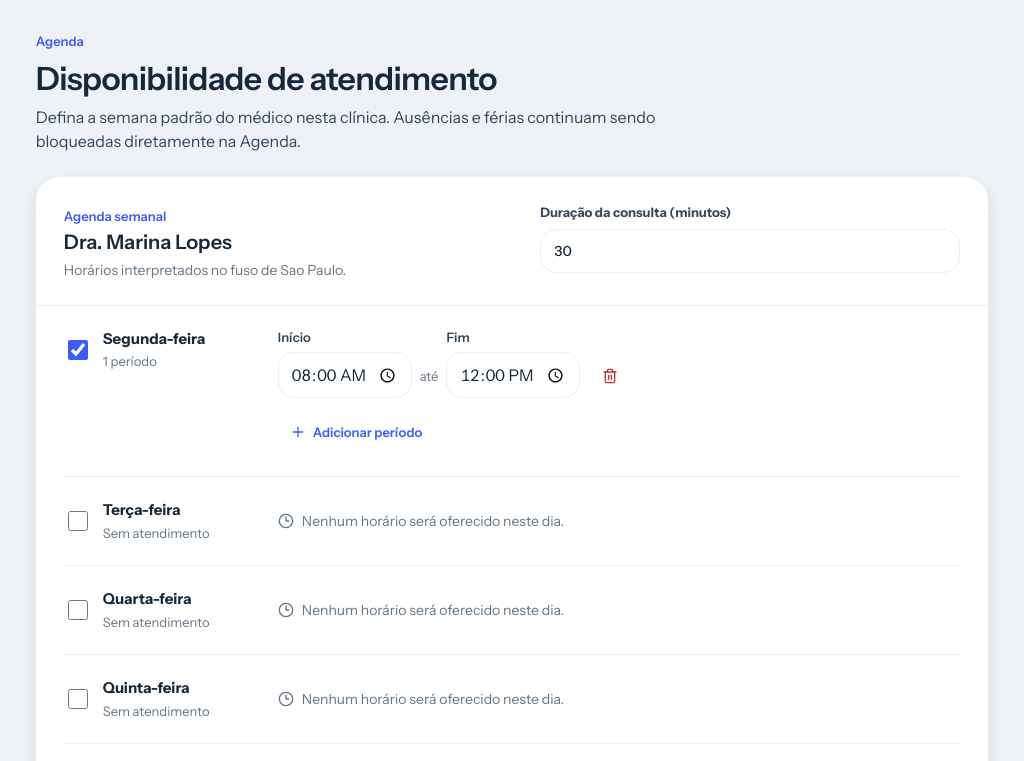
it: ScheduleSettingsPage › médico salva duração, dias e múltiplos períodos da própria clínica
The width and height of the screenshot is (1024, 761).
Check: the heading "Dra. Marina Lopes" is shown, box [64,230,232,254]
Replace the text in the number field labelled "Duração da consulta (minutos)" with "45" at (750,251), box [540,229,960,273]
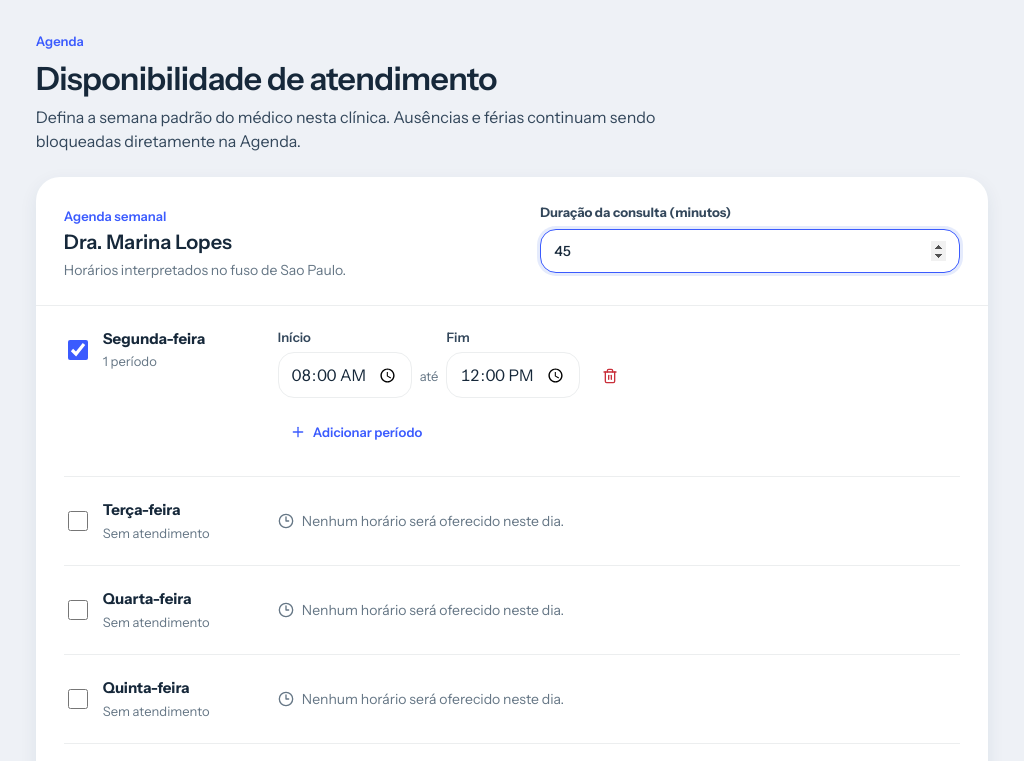
Click the button "Adicionar período".
click(356, 432)  # box [278,410,434,454]
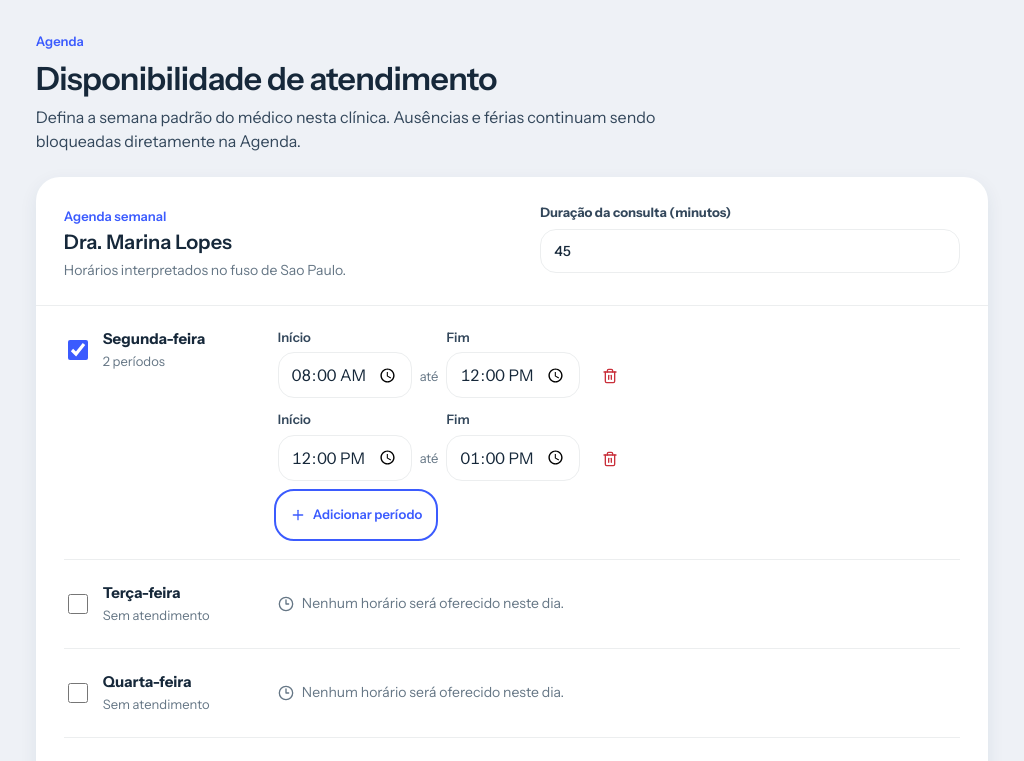
Click the checkbox labelled "Terça-feira Sem atendimento".
click(78, 604)  # box [68,594,88,614]
(page scrolled)
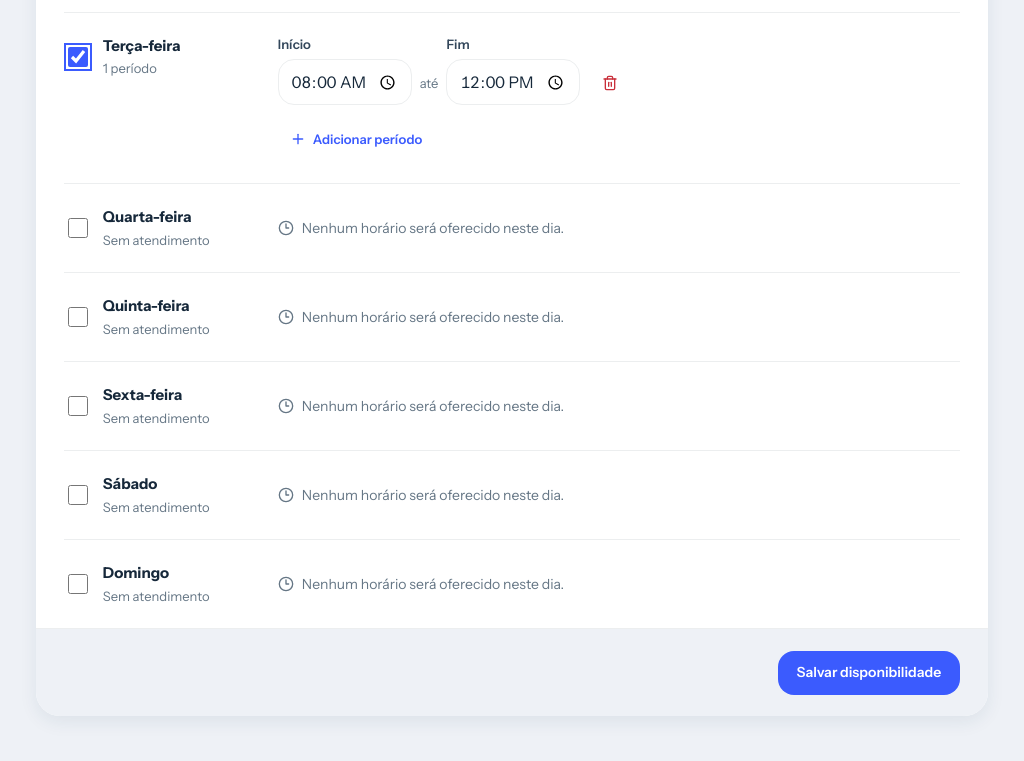
Click the button "Salvar disponibilidade".
click(869, 673)  # box [778,651,960,695]
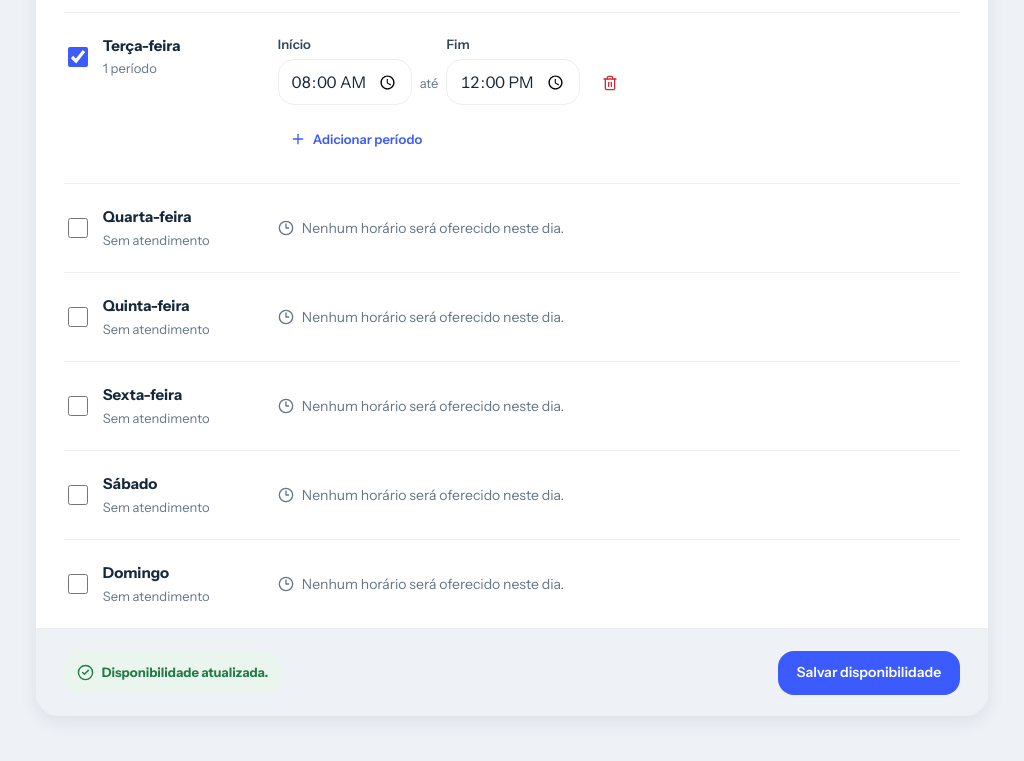
Check: the text "Disponibilidade atualizada." is shown, box [64,652,281,694]
